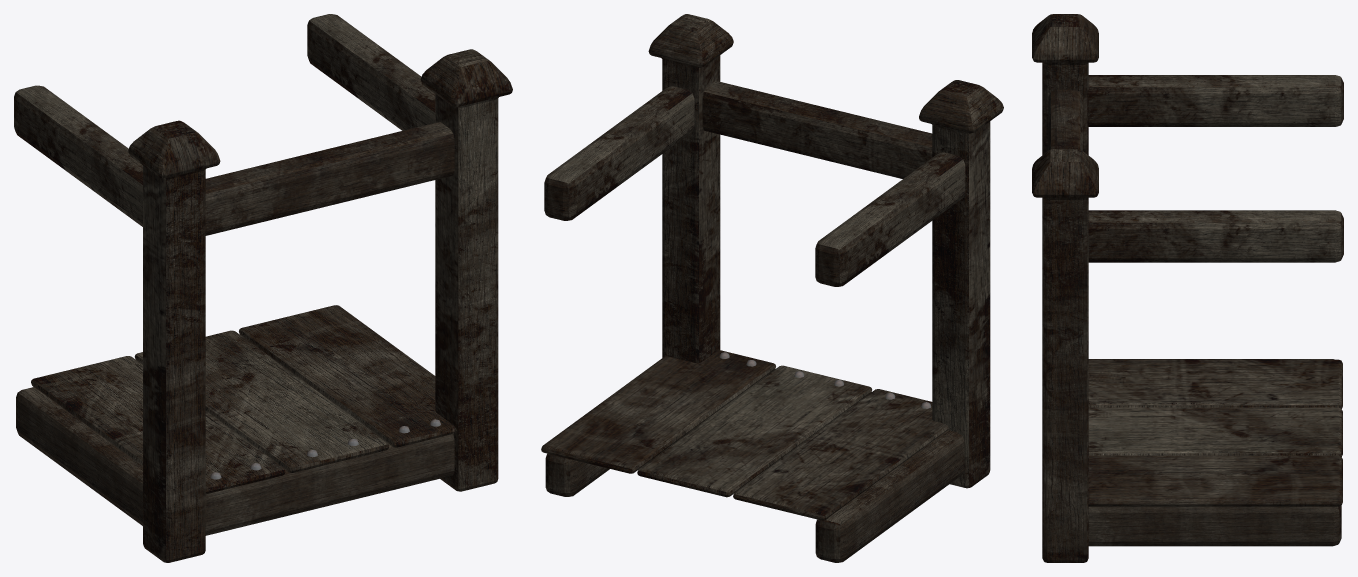
The model's file is BuildingBalcony.fbx.
The picture shows the model from 3 angles, left to right: view 1: azimuth 30°, elevation 25°; view 2: azimuth 150°, elevation 25°; view 3: azimuth 270°, elevation 25°; orthographic projection. The views are drawn at different scales.
Parts seen in each view (by area): view 1: Balcony; view 2: Balcony; view 3: Balcony.
Part boxes in pixels (x1,y1,x2,y2): Balcony: [14, 14, 512, 562]; Balcony: [541, 14, 1003, 562]; Balcony: [1032, 14, 1343, 562].
Bounding box in the file's own units: 139 × 159 × 112.
